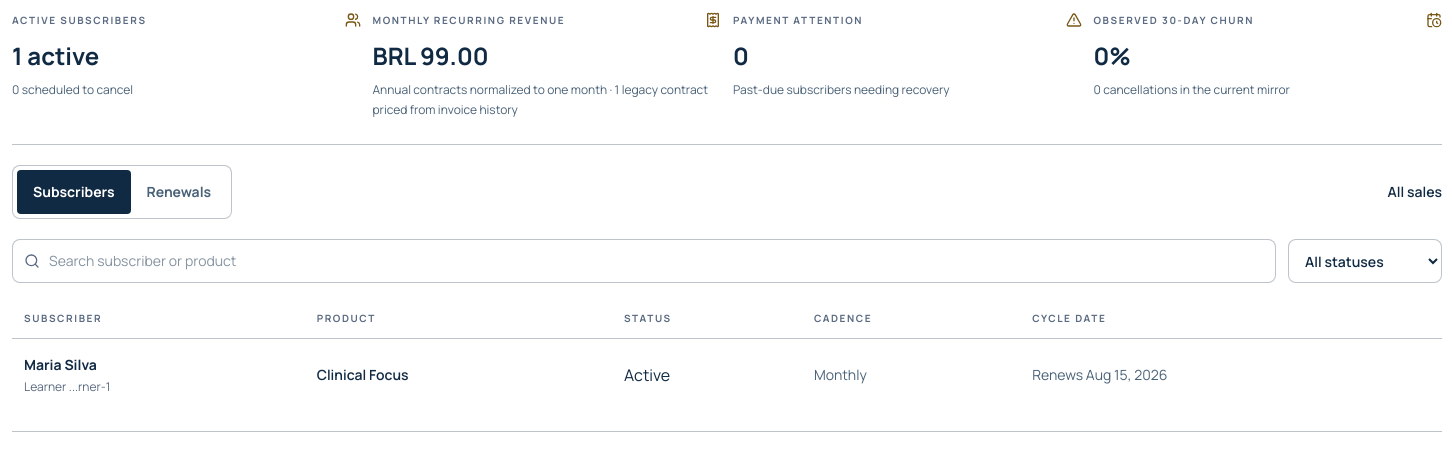
Scenario: CreatorSubscriptionCenterView › switches to reportable renewal history
What coordinates should you click on to do the following:
click the tab "Renewals"
I would click on:
 (179, 192)
Its box is [130,170,227,214].
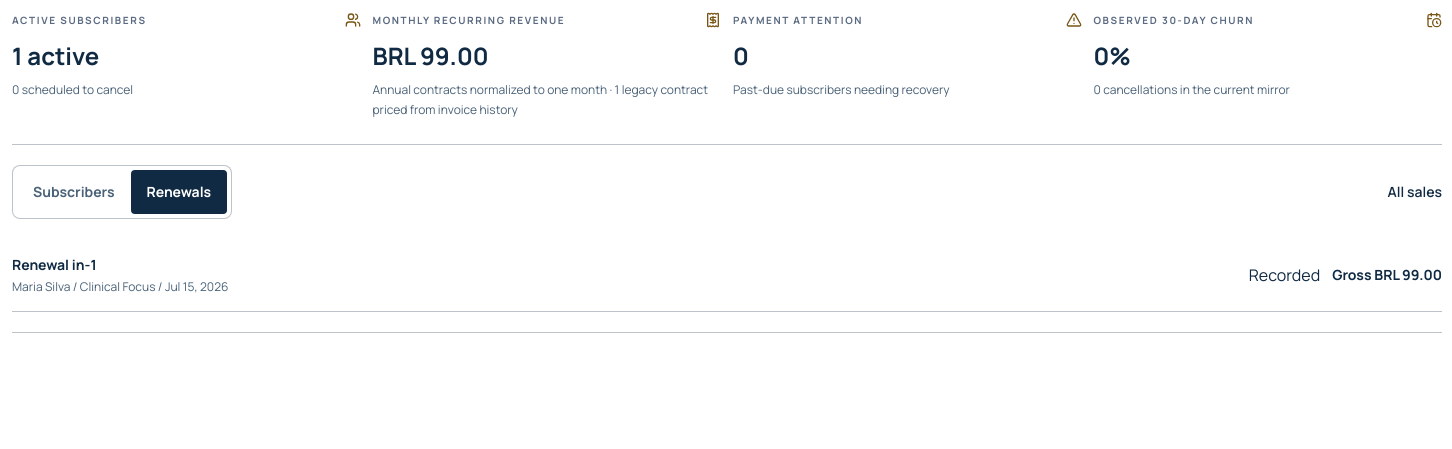
Expected: the text "Renewal in-1" is shown, [12,255,96,274]
Expected: the text "Maria Silva / Clinical Focus / Jul 15, 2026" is shown, [12,279,228,295]
Expected: the text "Gross BRL 99.00" is shown, [1332,265,1442,285]
